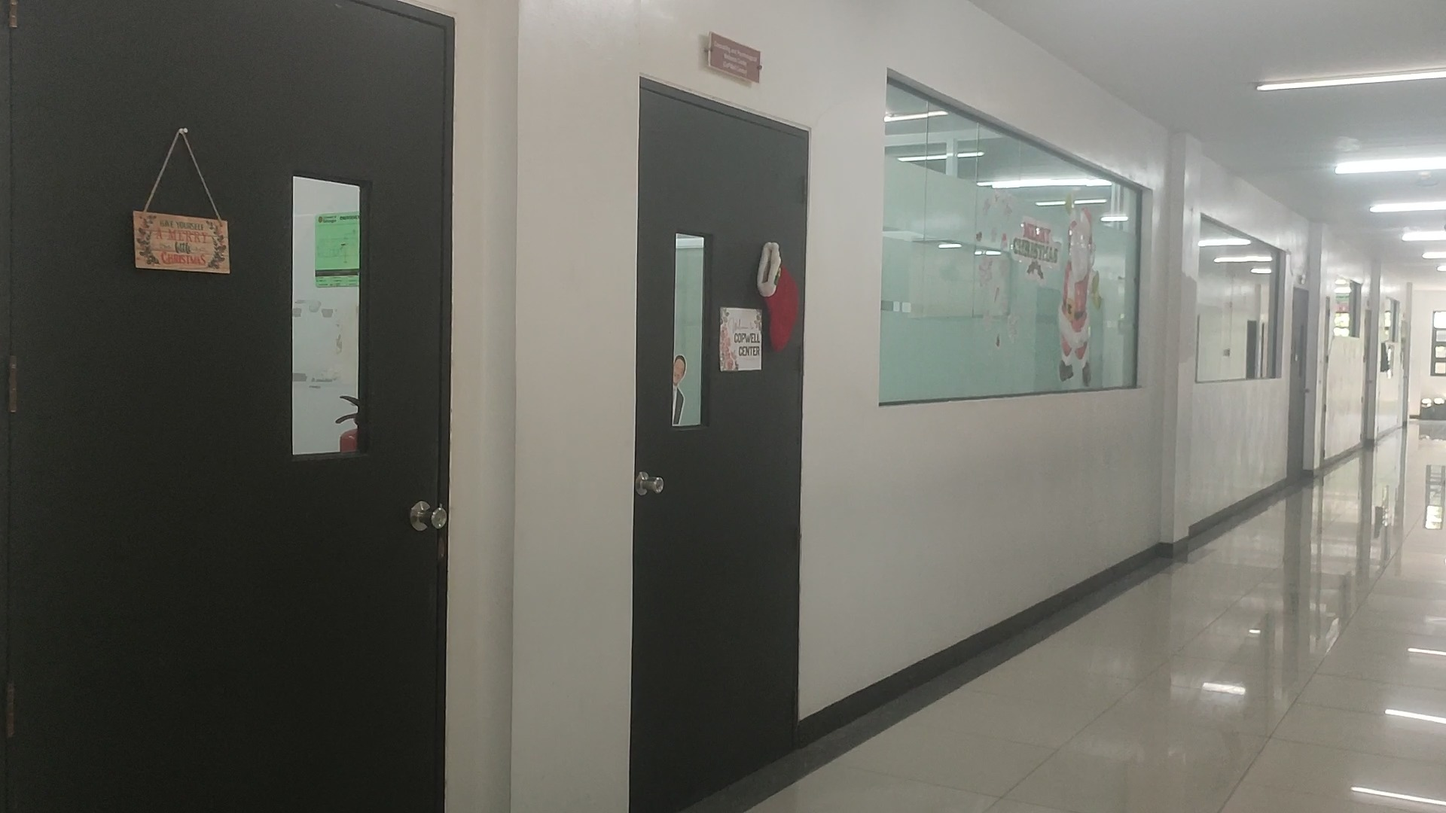door: (0, 0, 462, 813), (623, 76, 805, 813)
